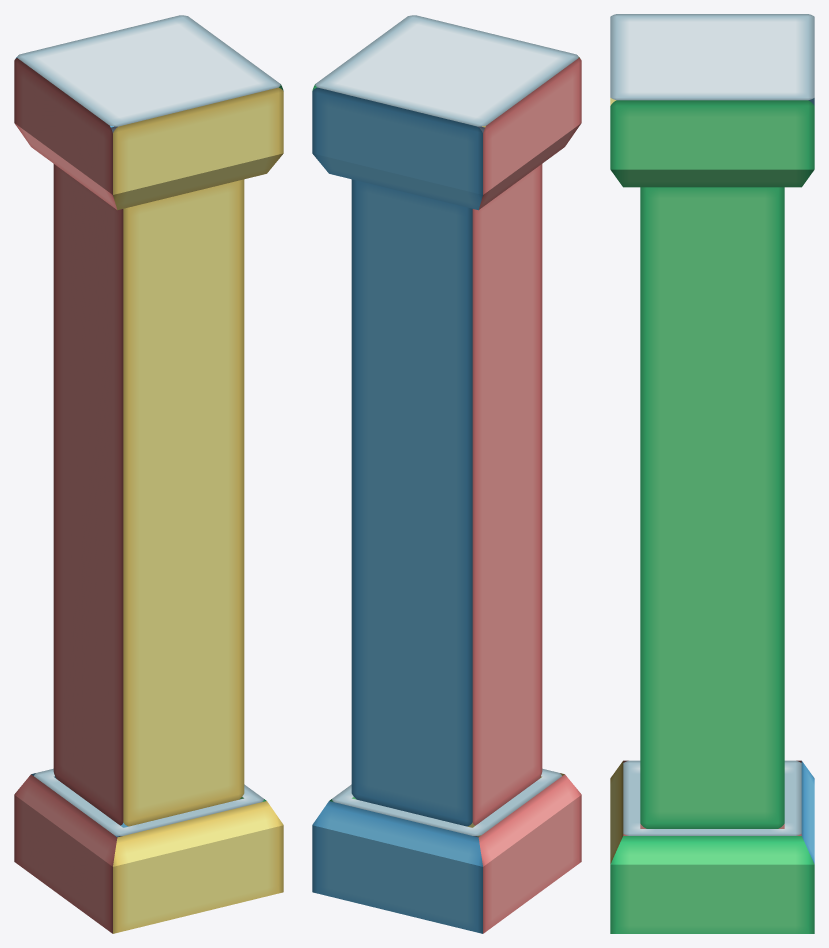
Rendered from arena.fbx.
3 renders of one model, left to right at view 1: azimuth 30°, elevation 25°; view 2: azimuth 150°, elevation 25°; view 3: azimuth 270°, elevation 25°, orthographic. The views are drawn at different scales.
Parts seen in each view (by area): view 1: cuboid; view 2: cuboid; view 3: cuboid.
Part boxes in pixels (x1=…): cuboid: x1=14, y1=15, x2=283, y2=933; cuboid: x1=312, y1=15, x2=581, y2=933; cuboid: x1=610, y1=14, x2=814, y2=933.
Bounding box in the file's own units: 100 × 451 × 100.
Materials: 1 (1 with a texture image).
